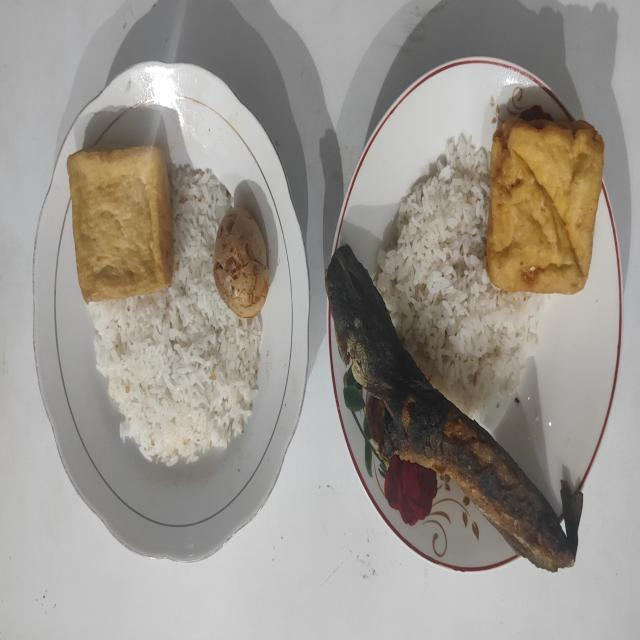nasi_putih: (89, 165, 262, 466), (373, 134, 544, 418)
tahu_goreng: (486, 120, 604, 294), (68, 146, 174, 302)
